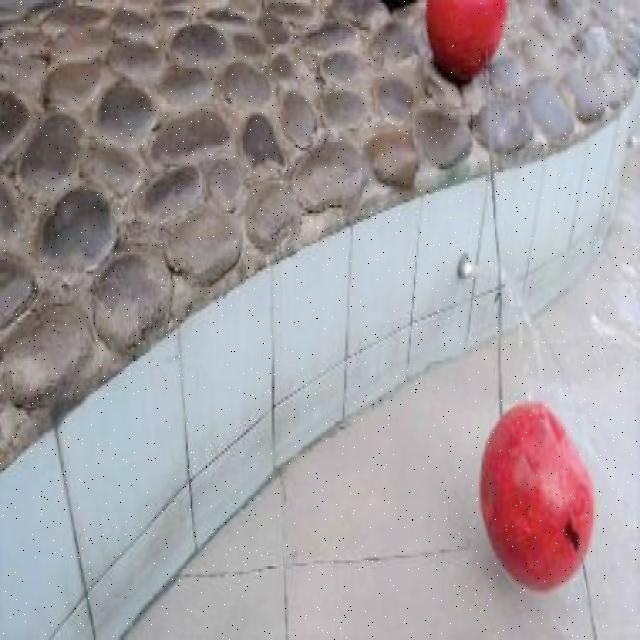buoy: (480, 398, 594, 592), (425, 1, 508, 81)
